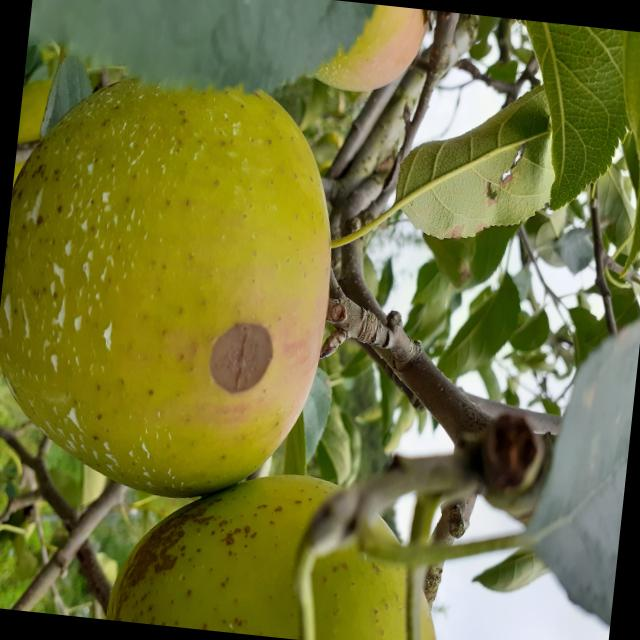rotten: (1, 55, 357, 528)
